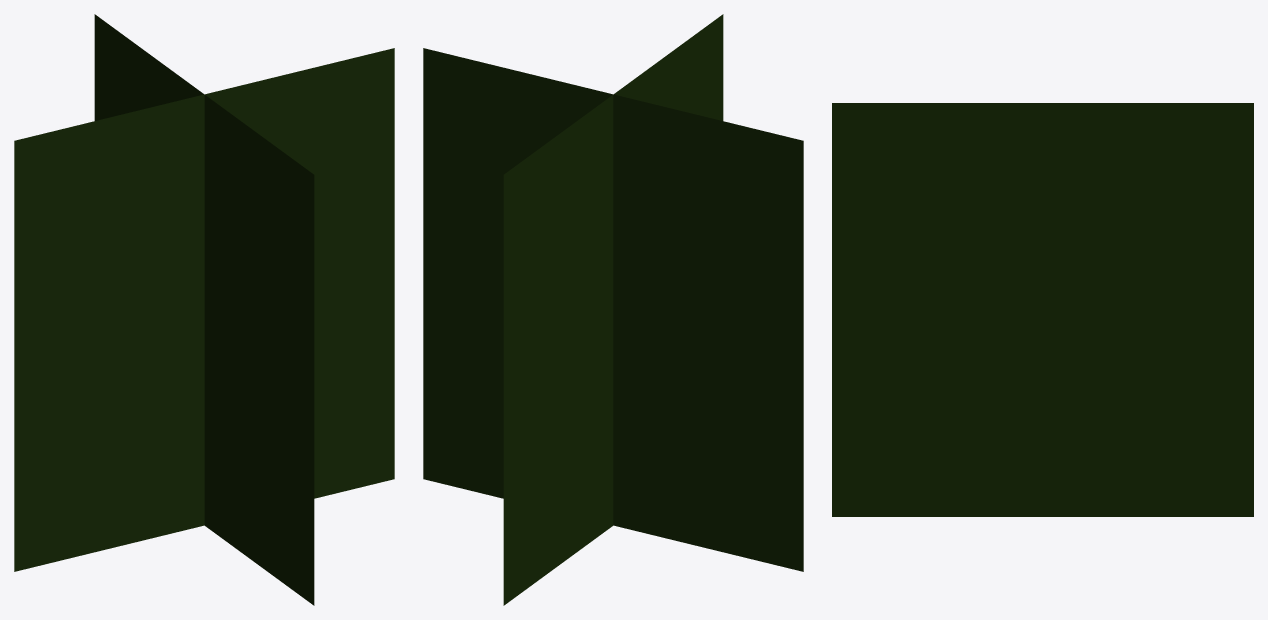
The model's file is RT PlantMOB V01 DS.FBX.
The picture shows the model from 3 angles, left to right: view 1: azimuth 30°, elevation 25°; view 2: azimuth 150°, elevation 25°; view 3: azimuth 270°, elevation 25°; orthographic projection. The views are drawn at different scales.
Visible parts, largest first — view 1: RT PlantMOB V01 DS; view 2: RT PlantMOB V01 DS; view 3: RT PlantMOB V01 DS.
Part boxes in pixels (box(x1,y1,x2,y2)): RT PlantMOB V01 DS: box(14, 14, 394, 605); RT PlantMOB V01 DS: box(423, 14, 803, 605); RT PlantMOB V01 DS: box(832, 103, 1253, 516).
Size of the model in its own units: 2.76 by 2.99 by 2.76.
